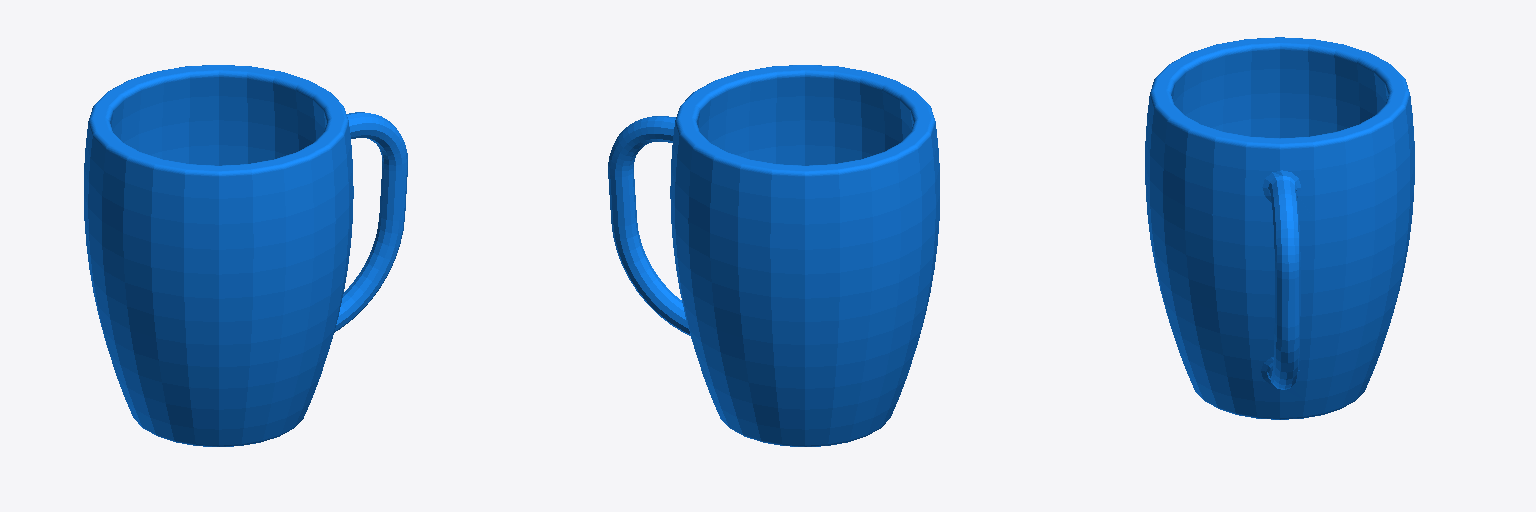
File: cup2.obj
The picture shows the model from 3 angles: view 1: azimuth 30°, elevation 25°; view 2: azimuth 150°, elevation 25°; view 3: azimuth 270°, elevation 25°; orthographic projection.
Visible parts, largest first — view 1: mesh1_mesh1-geometry; view 2: mesh1_mesh1-geometry; view 3: mesh1_mesh1-geometry.
Part boxes in pixels (left/top/right/bottom): mesh1_mesh1-geometry: left=84, top=65, right=407, bottom=446; mesh1_mesh1-geometry: left=608, top=65, right=939, bottom=446; mesh1_mesh1-geometry: left=1145, top=37, right=1414, bottom=419.
Size of the model in its own units: 0.0972 by 0.0886 by 0.0737.